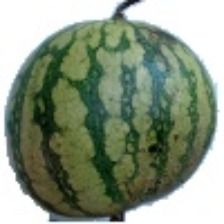watermelon: (31, 24, 170, 220)
